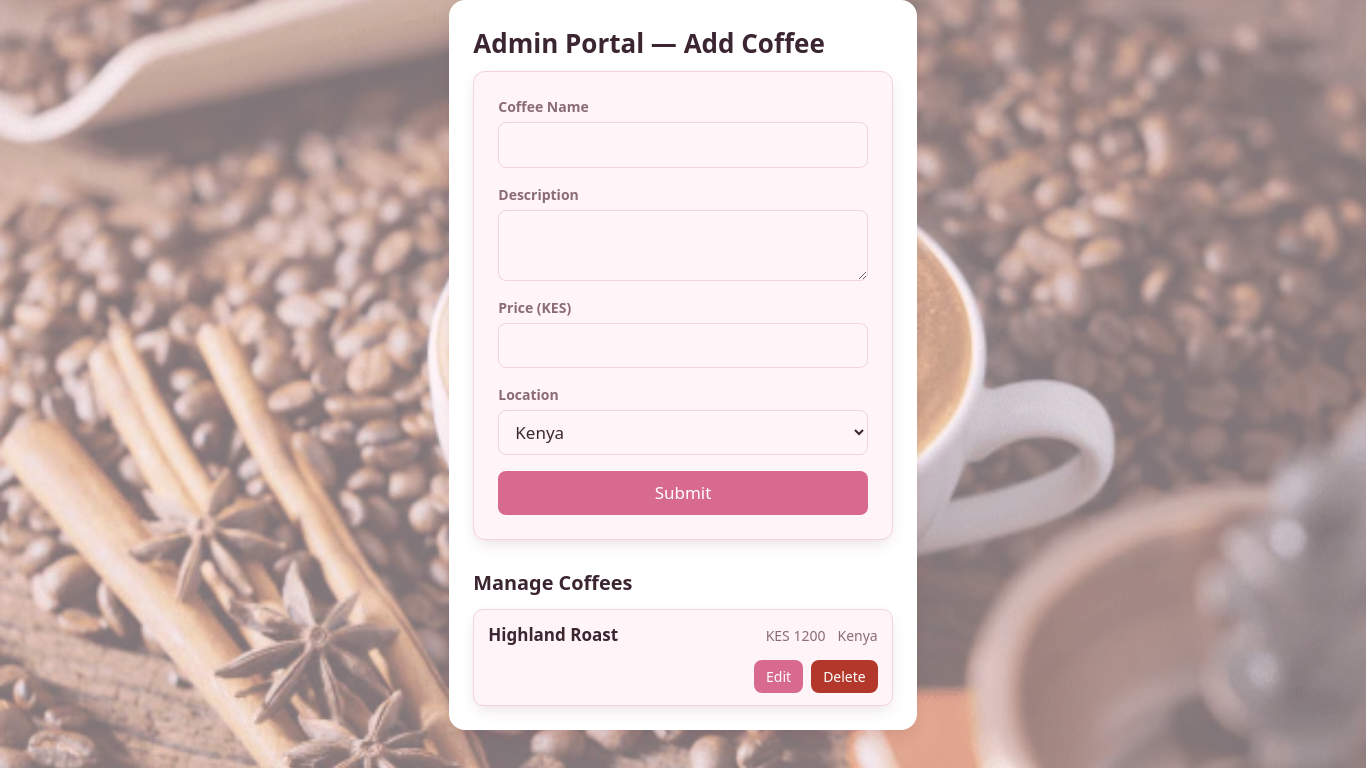
Test: Admin Portal › Cancel returns to Add mode without saving
Expected: the text "Highland Roast" is shown, [488,623,618,646]
Click the button "Edit". click: (779, 676)
box: [754,660,803,693]
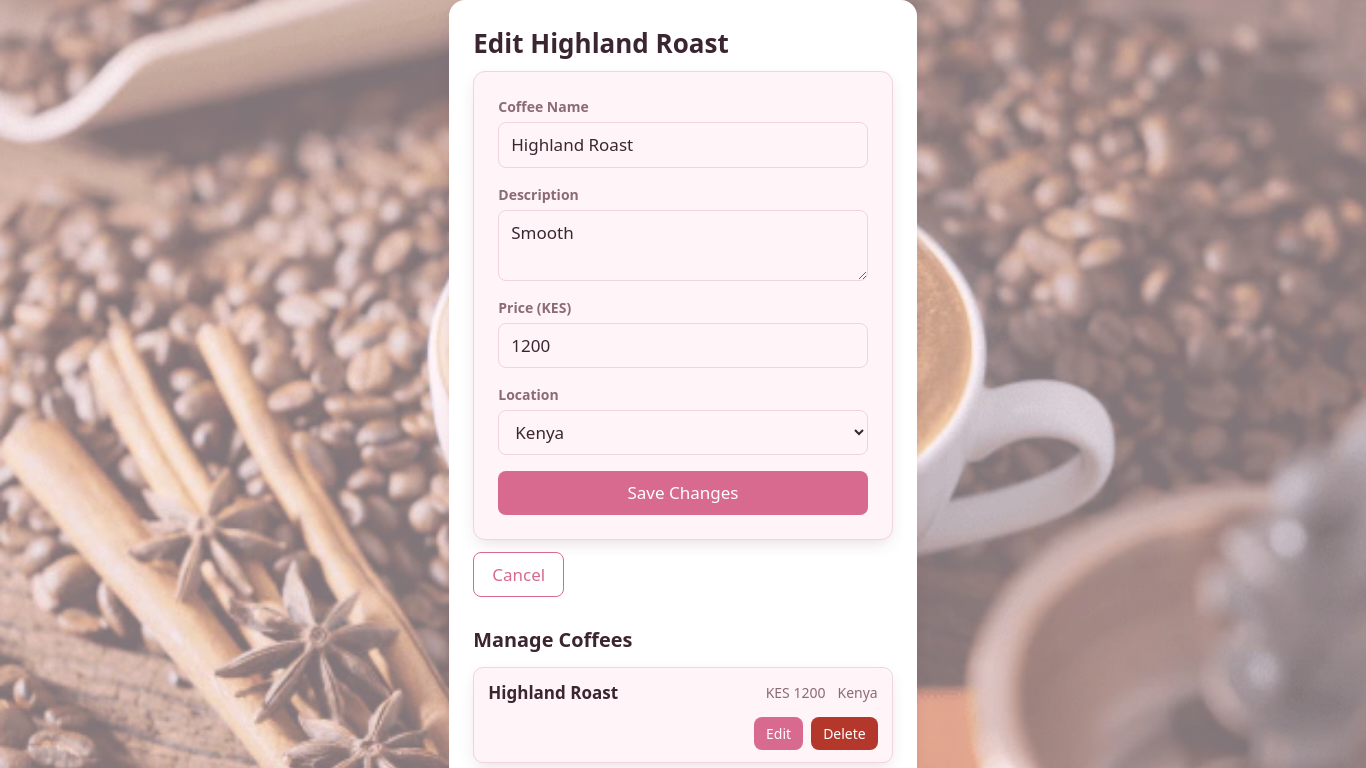
Expected: the heading "Edit Highland Roast" is shown, [473,25,729,61]
Click the button "Cancel". click: (519, 574)
box: [473,552,564,597]
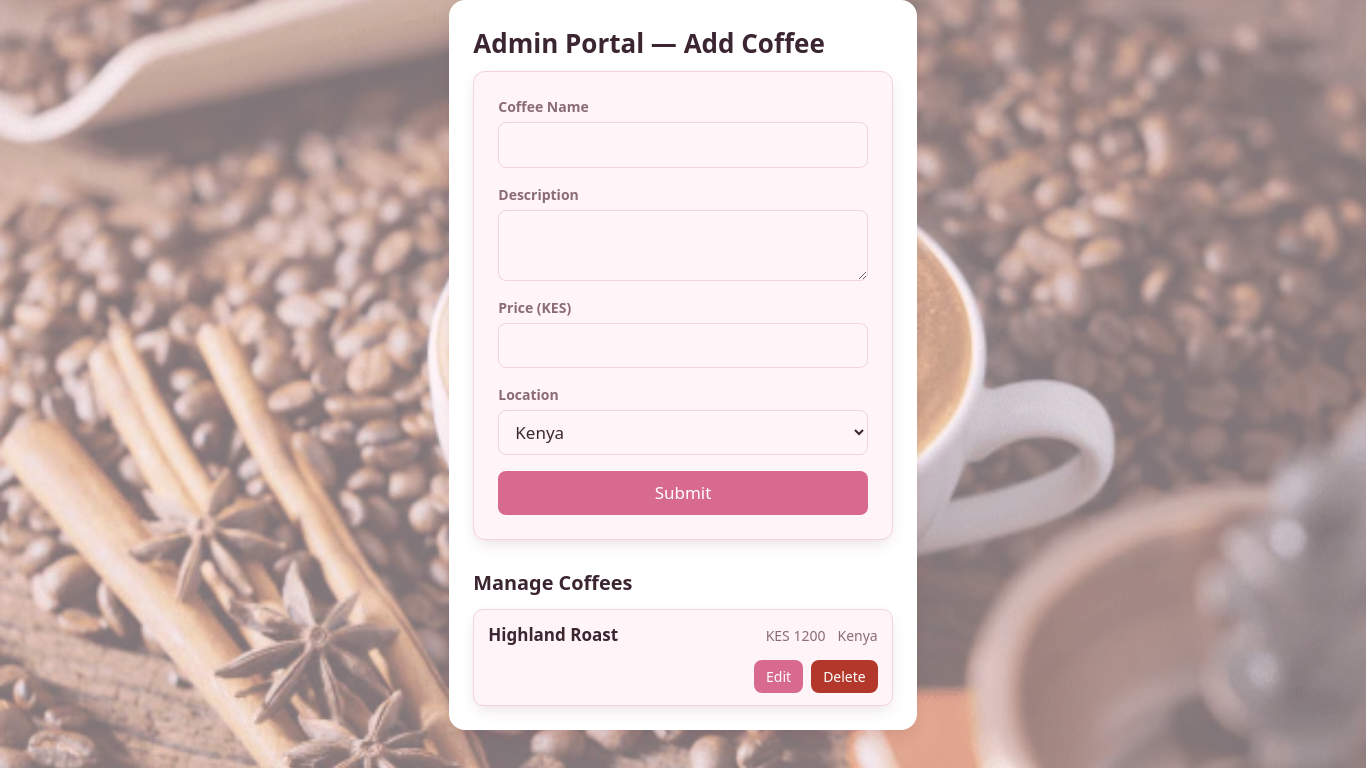
Expected: the heading "Admin Portal — Add Coffee" is shown, [473,25,825,61]
